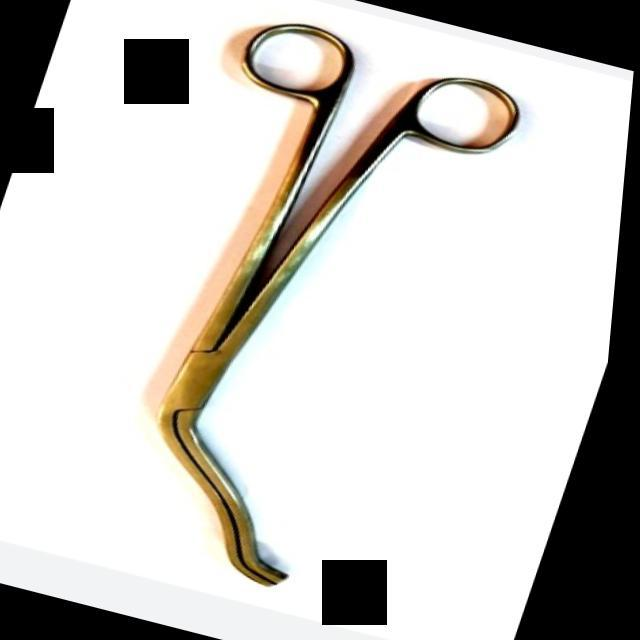Cheatle Forceps: (58, 2, 544, 615)
